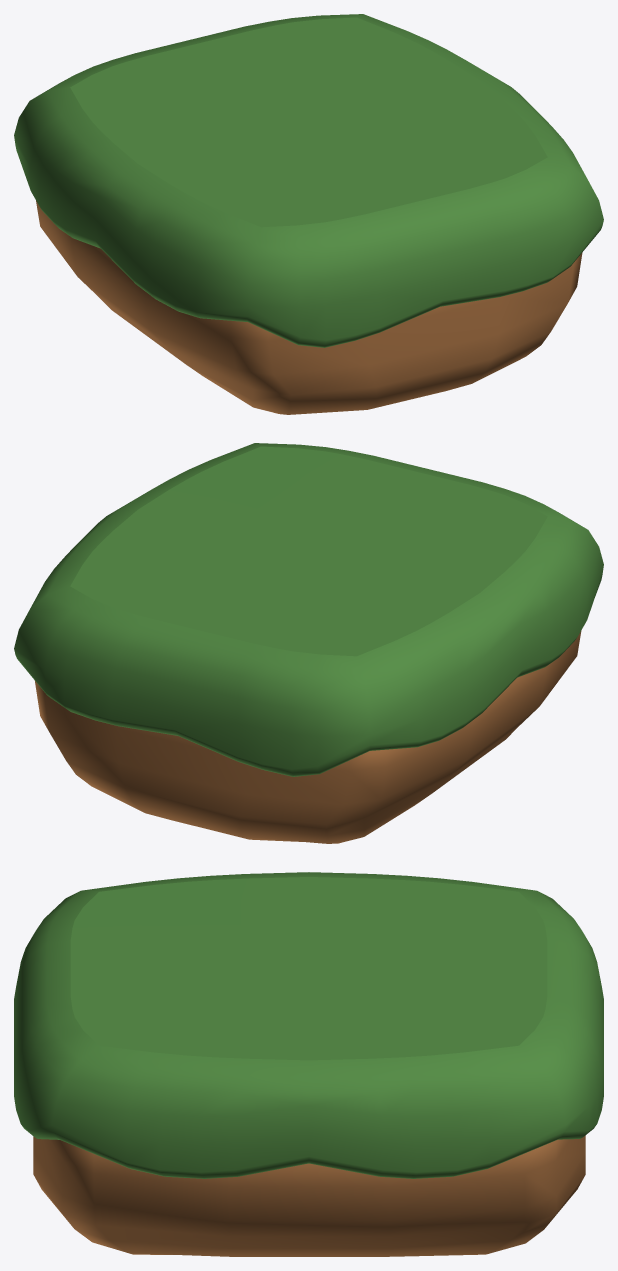
File: M_flip_flatBlock.fbx
3 views of the same model, one above another, from view 1: azimuth 30°, elevation 25°; view 2: azimuth 150°, elevation 25°; view 3: azimuth 270°, elevation 25° (orthographic). The views are drawn at different scales.
Parts seen in each view (by area): view 1: grassTop2, cliffBase4; view 2: grassTop2, cliffBase4; view 3: grassTop2, cliffBase4.
Boxes of the visible parts, x1=… form: grassTop2: x1=14, y1=14, x2=603, y2=347; cliffBase4: x1=36, y1=201, x2=582, y2=414; grassTop2: x1=14, y1=443, x2=603, y2=776; cliffBase4: x1=34, y1=630, x2=581, y2=843; grassTop2: x1=14, y1=872, x2=603, y2=1178; cliffBase4: x1=33, y1=1135, x2=585, y2=1256.
Size of the model in its own units: 50.01 by 23.13 by 54.39.
